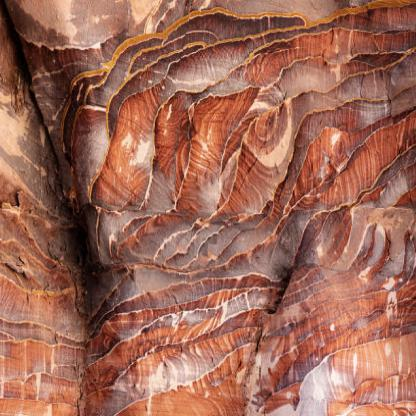Sedimentary_Sandstone: (8, 12, 415, 415)
